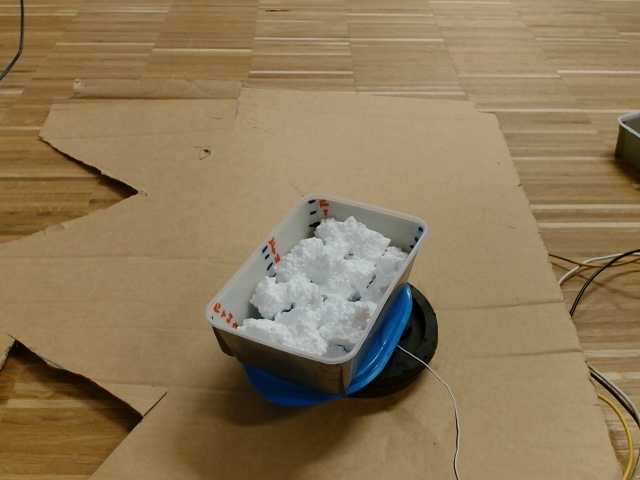Small_half: (203, 192, 426, 367)
